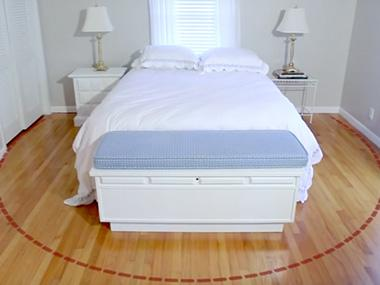bed: (81, 28, 341, 248)
